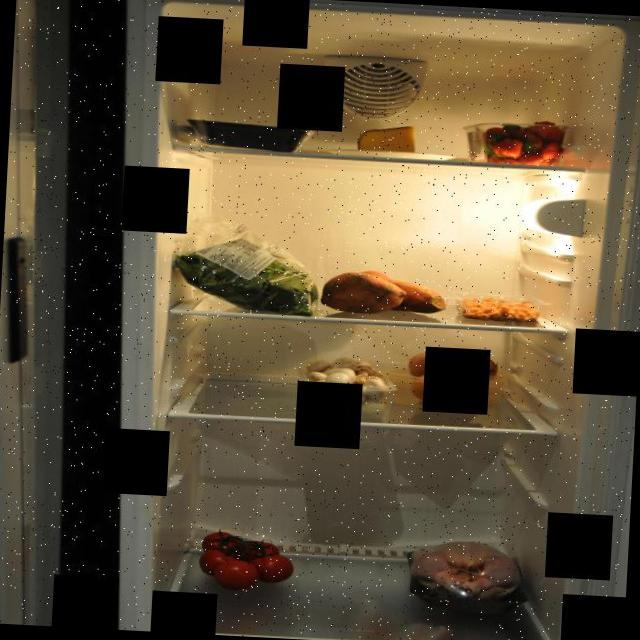Carne pollo: (404, 538, 532, 618)
Cebolla: (400, 347, 500, 408)
Champiñones: (292, 351, 383, 422)
Gambas/Langostinos: (458, 296, 542, 324)
Queso: (353, 122, 421, 158)
Tomate: (194, 524, 299, 594)
